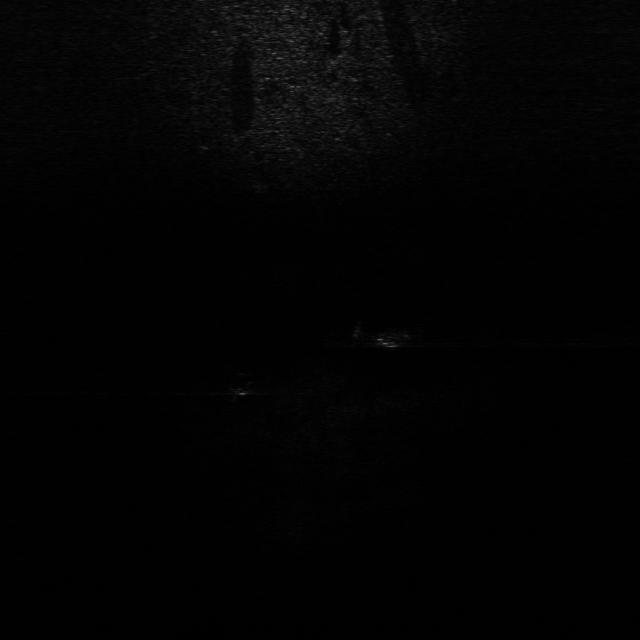ball: (216, 363, 268, 403)
human body: (341, 313, 442, 356)
